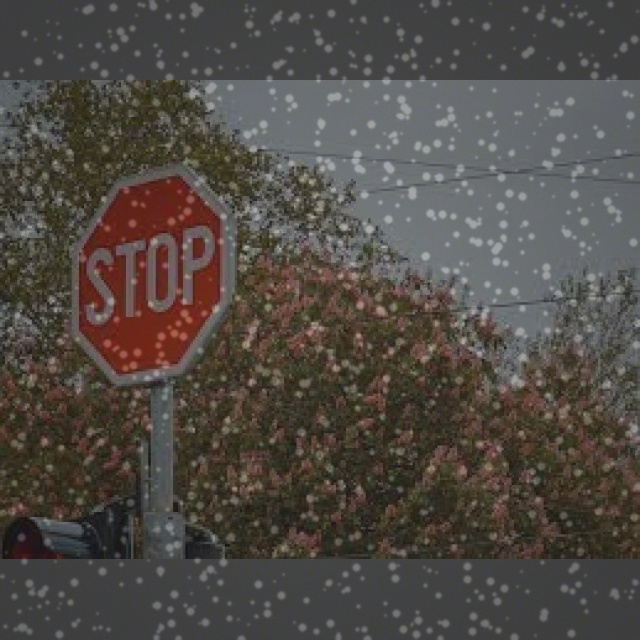Stop: (76, 169, 233, 382)
